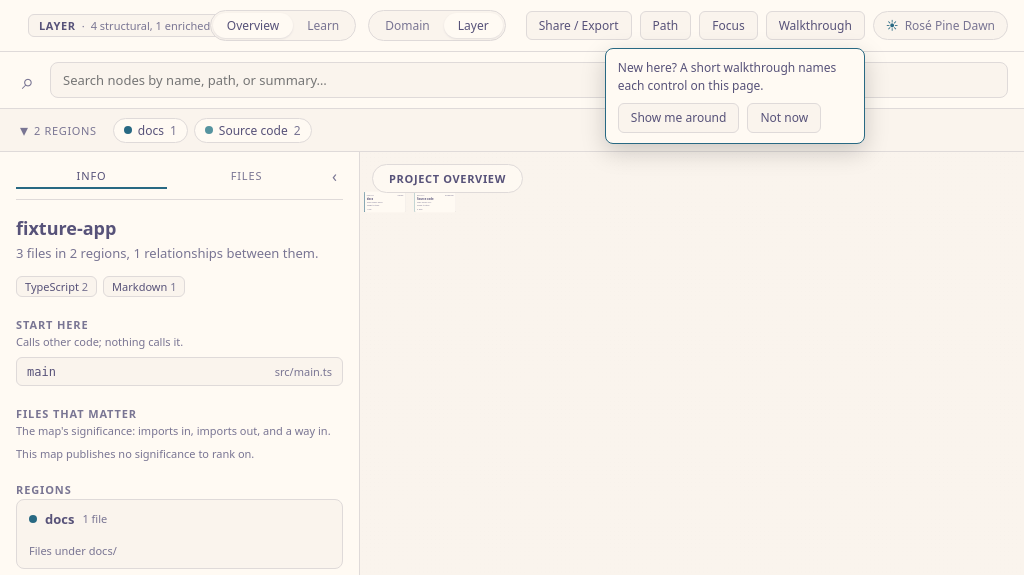
Test: node detail › navigates to a neighboring node through its edge entry
Type "main.ts" into the search field labelled "Search nodes" at (529, 80), box [50, 62, 1008, 98]
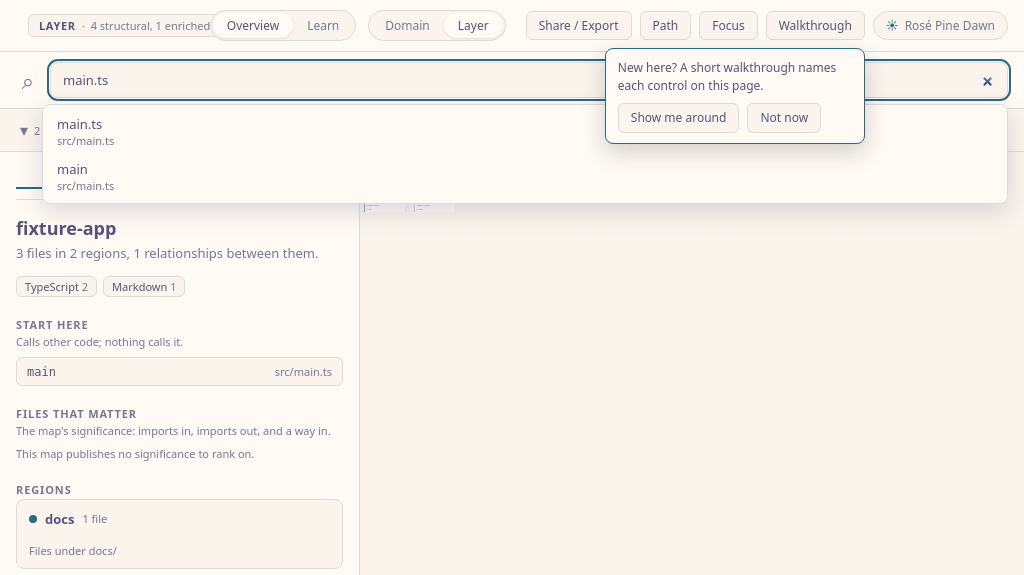
Click the text "main.ts" at (80, 124), box [57, 115, 102, 133]
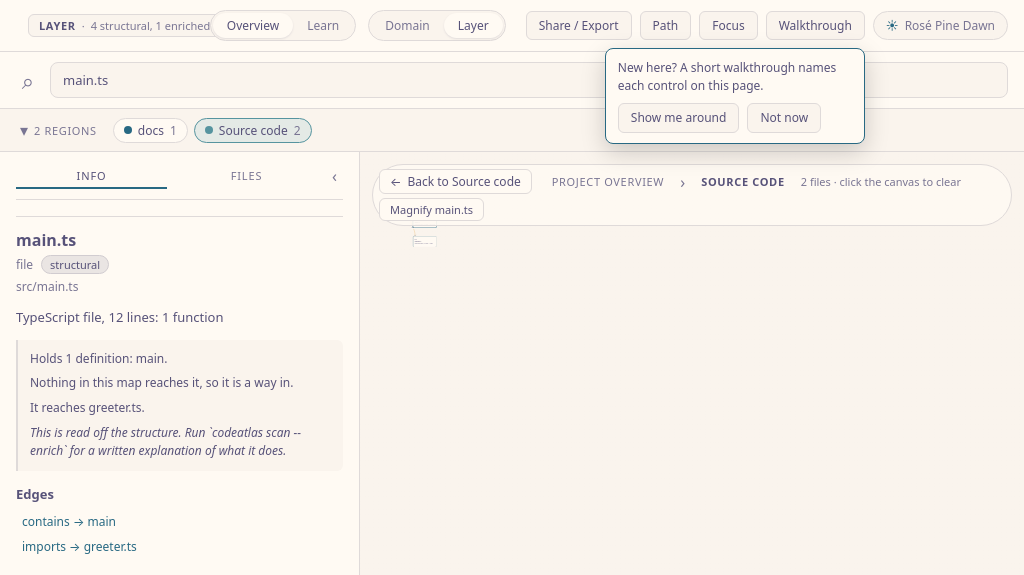
Click the button "imports → greeter.ts" at (79, 546), box [16, 534, 343, 559]
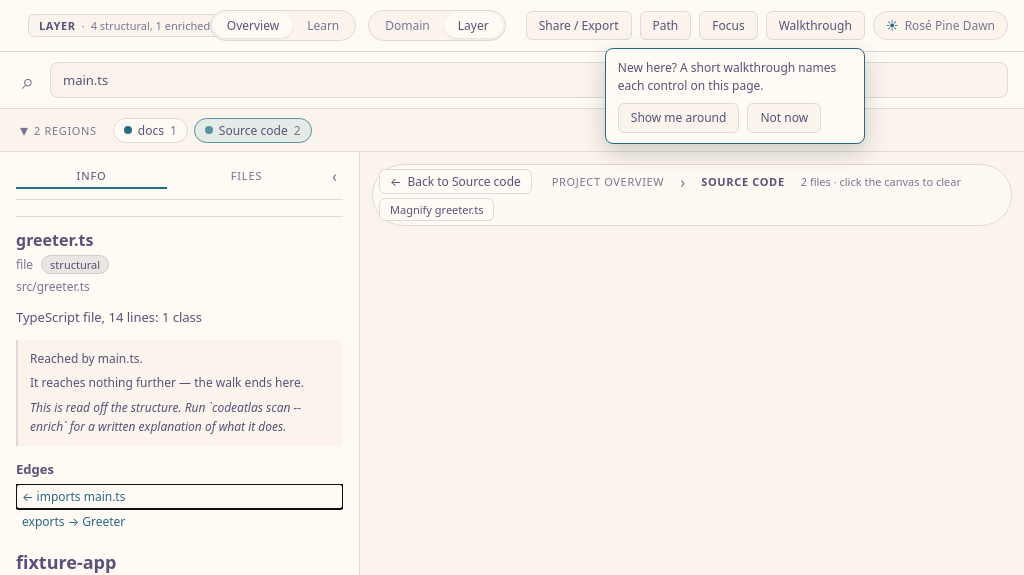
Expected: the heading "greeter.ts" is shown, [16, 229, 94, 251]
